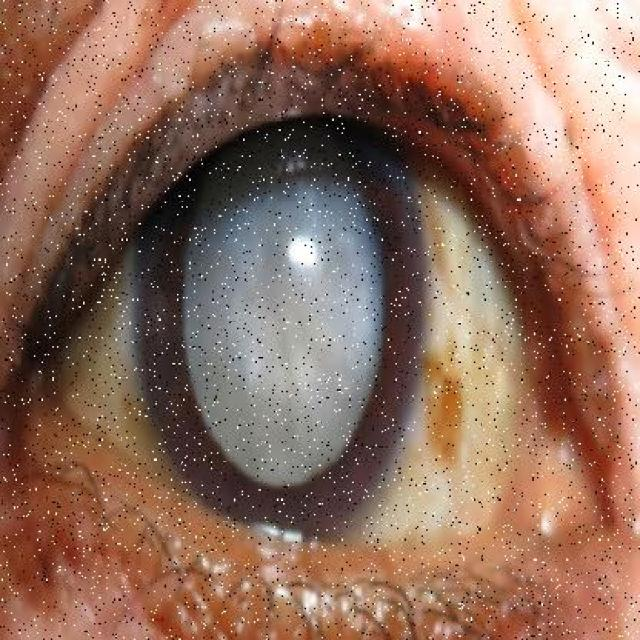Cataract: (127, 98, 440, 581)
